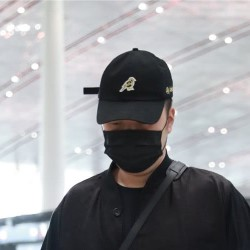mask: (93, 123, 171, 174)
